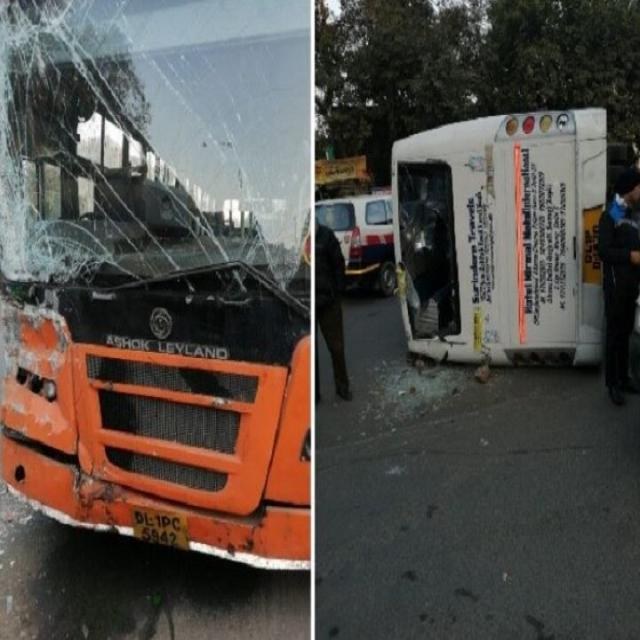accident: (0, 3, 314, 571), (392, 108, 606, 365)
